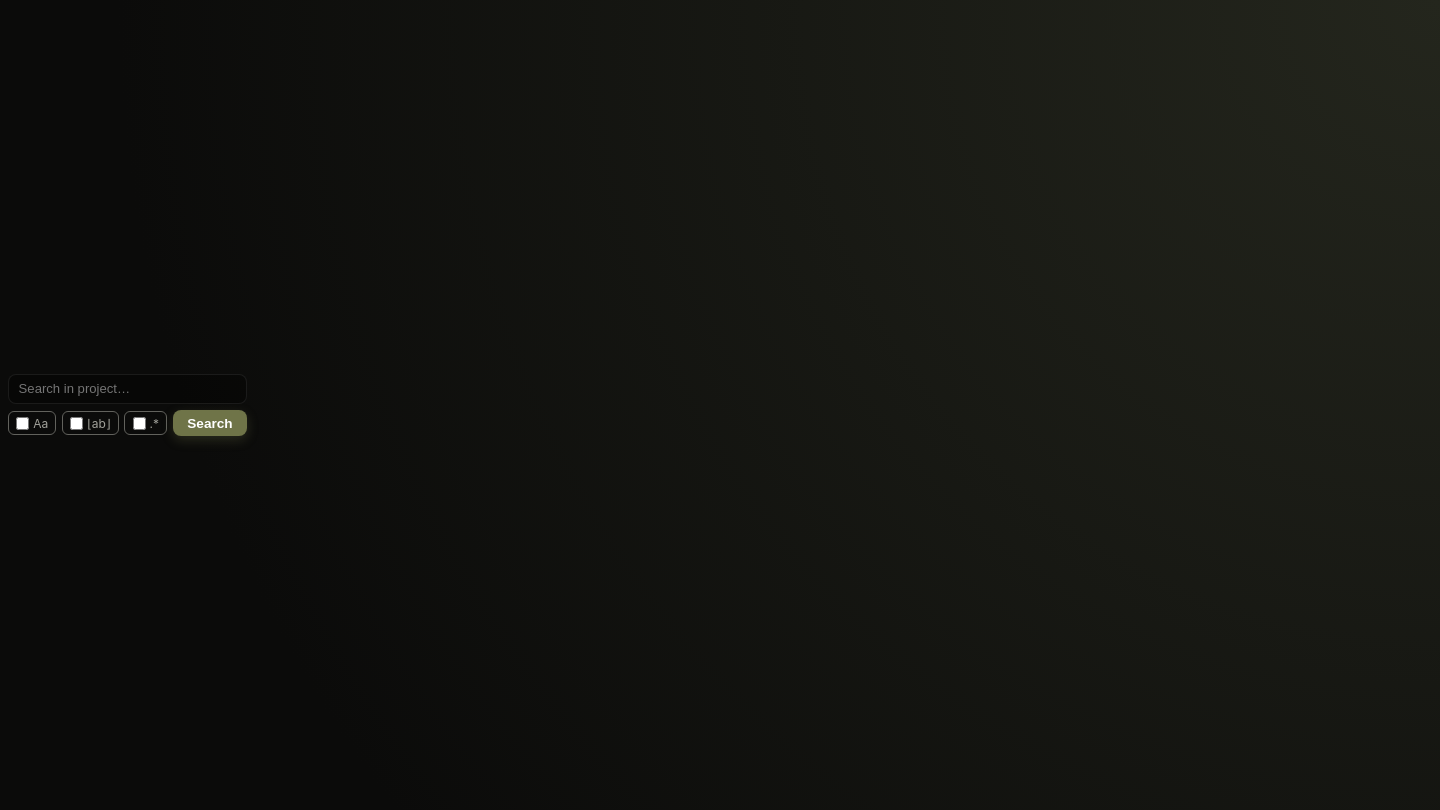
SearchPanel › shows the error state when the backend rejects
Step 1. Type "[bad" into the field named "Search query" → (128, 389), box [8,374,247,404]
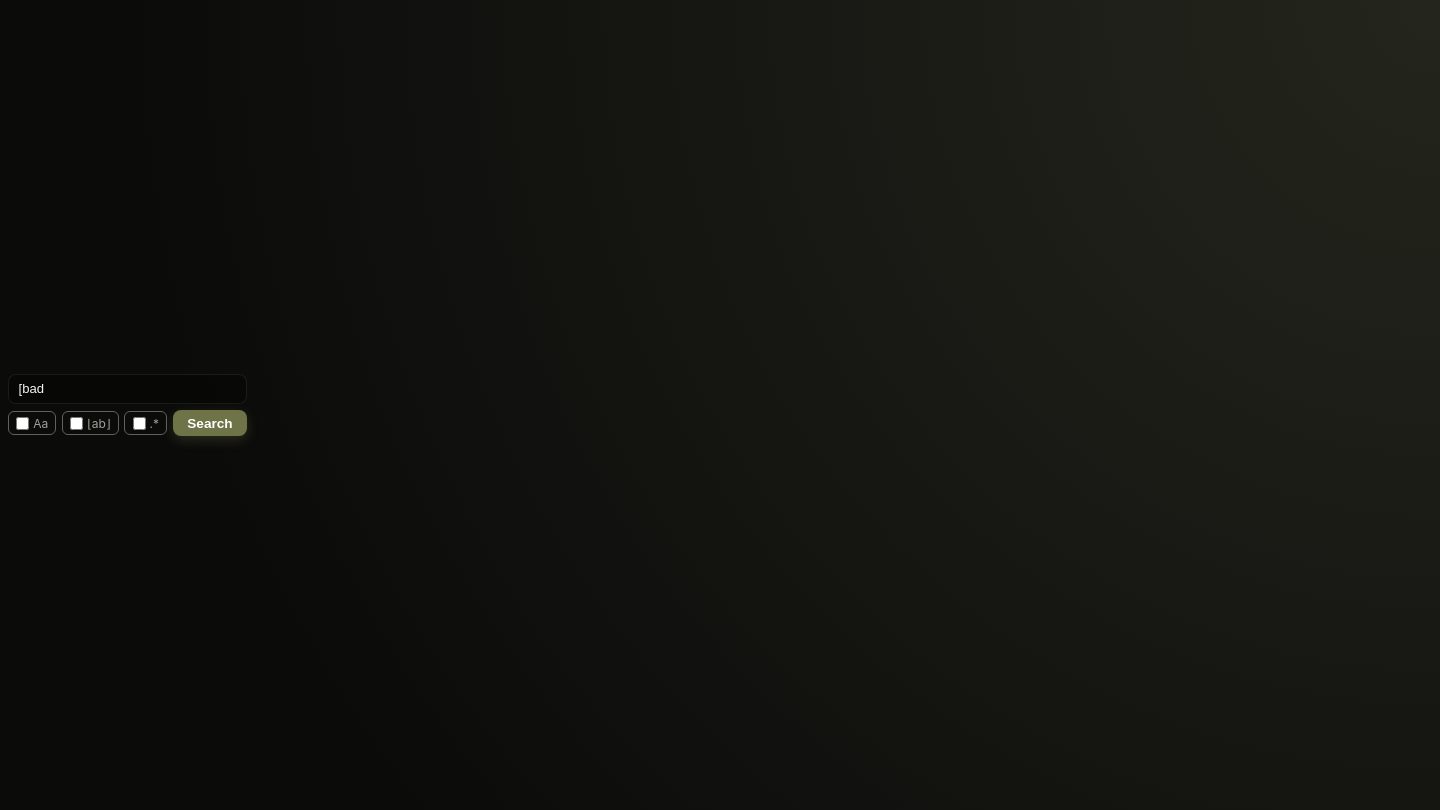
Step 2. Click the button "Search" → (210, 423), box [173,410,247,436]
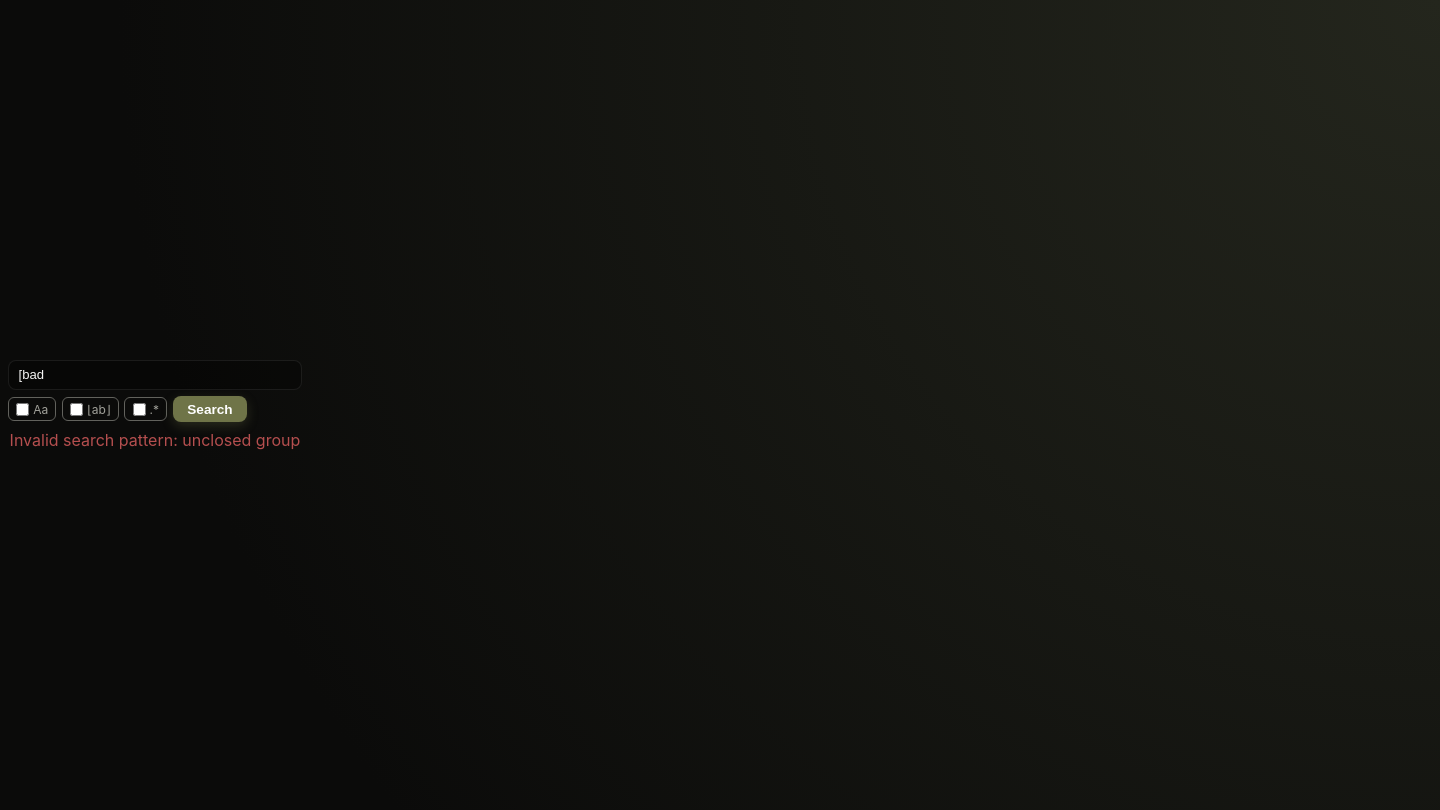
Expected: the text "Invalid search pattern: unclosed group" is shown, [8,430,302,450]
